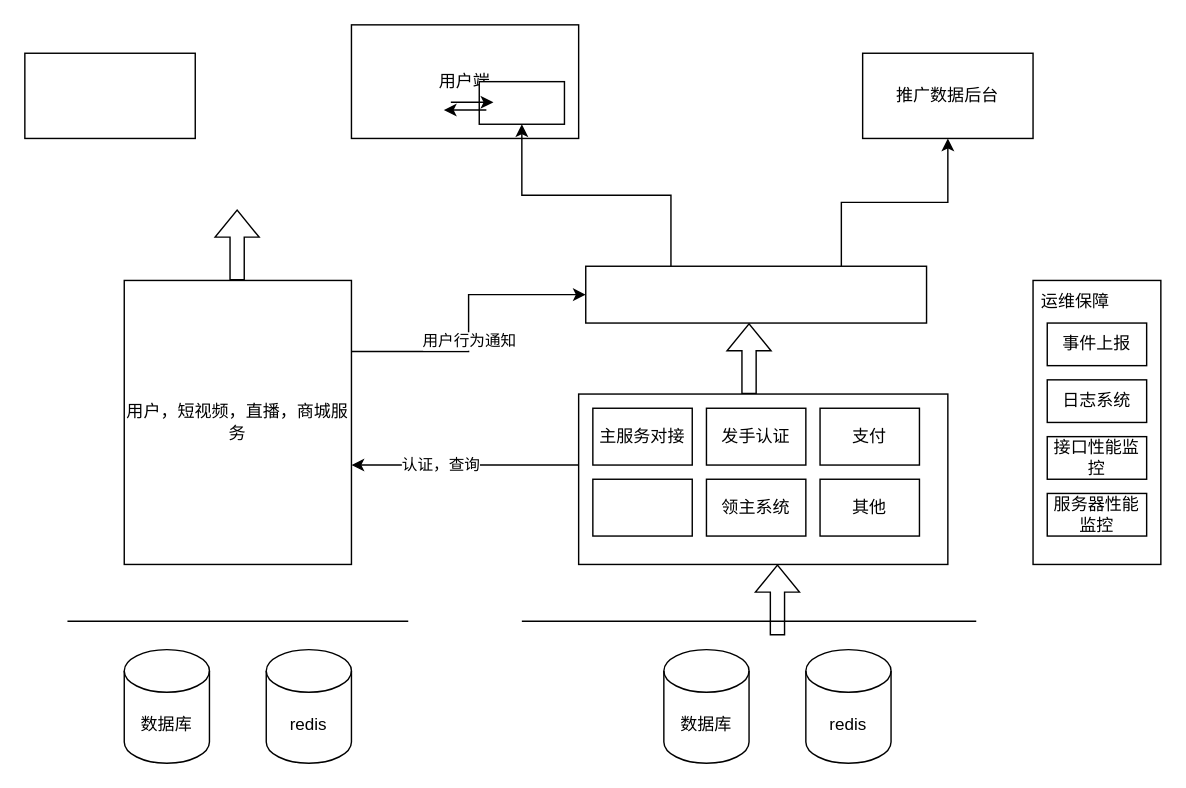
Image size: 1186x788. Some labels were removed from this diagram. The shapes that lost their labels are listed below. From the top down, each one's centre as x and y in pixels, then its label:
At point 109,95: "运营后台".
At point 521,102: "内嵌推广".
At point 755,294: "负载均衡".
At point 641,507: "需求任务系统".
